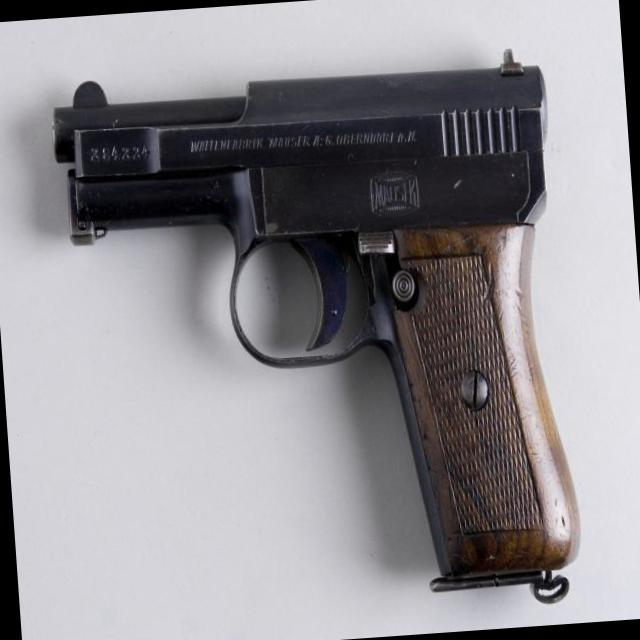Gun: (53, 53, 579, 601)
